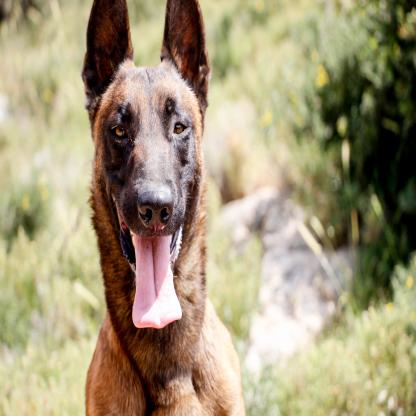german shepherd: (81, 3, 247, 416)
